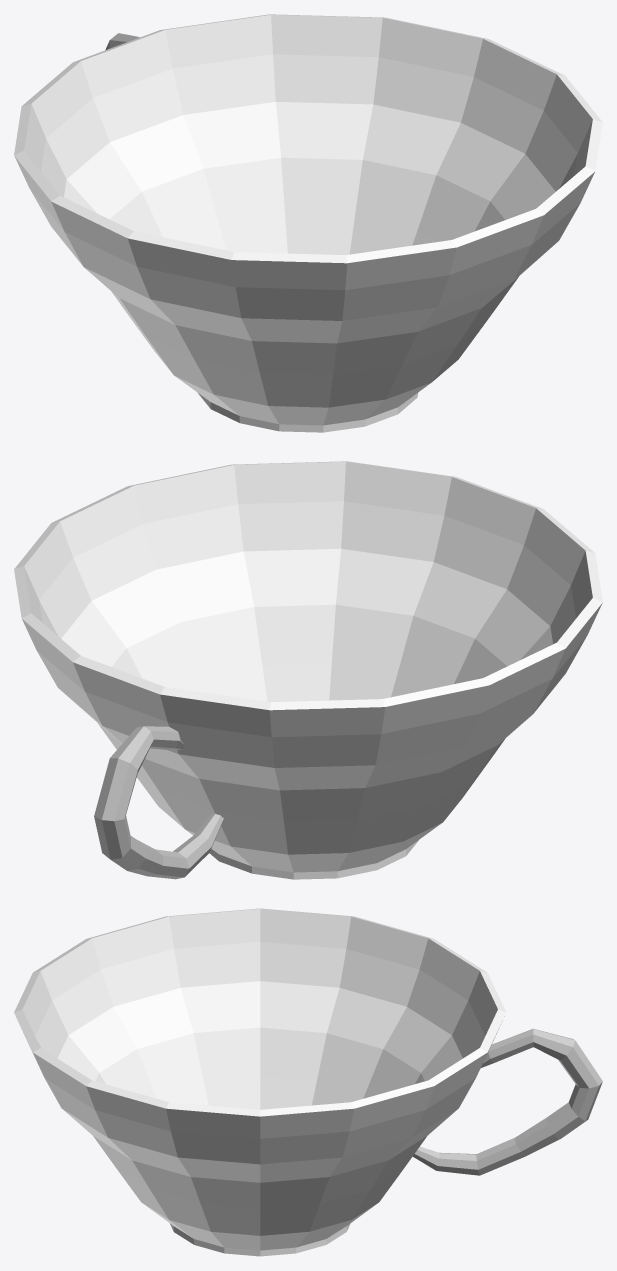
Rendered from Cup.fbx.
The picture shows the model from 3 angles, top to bottom: view 1: azimuth 30°, elevation 25°; view 2: azimuth 150°, elevation 25°; view 3: azimuth 270°, elevation 25°; orthographic projection. The views are drawn at different scales.
Visible parts, largest first — view 1: Cup; view 2: Cup; view 3: Cup.
Boxes of the visible parts, bbox=[...] form: Cup: bbox=[14, 14, 602, 432]; Cup: bbox=[14, 461, 602, 879]; Cup: bbox=[14, 908, 602, 1256].
Bounding box in the file's own units: 12.13 × 5.64 × 14.5.
